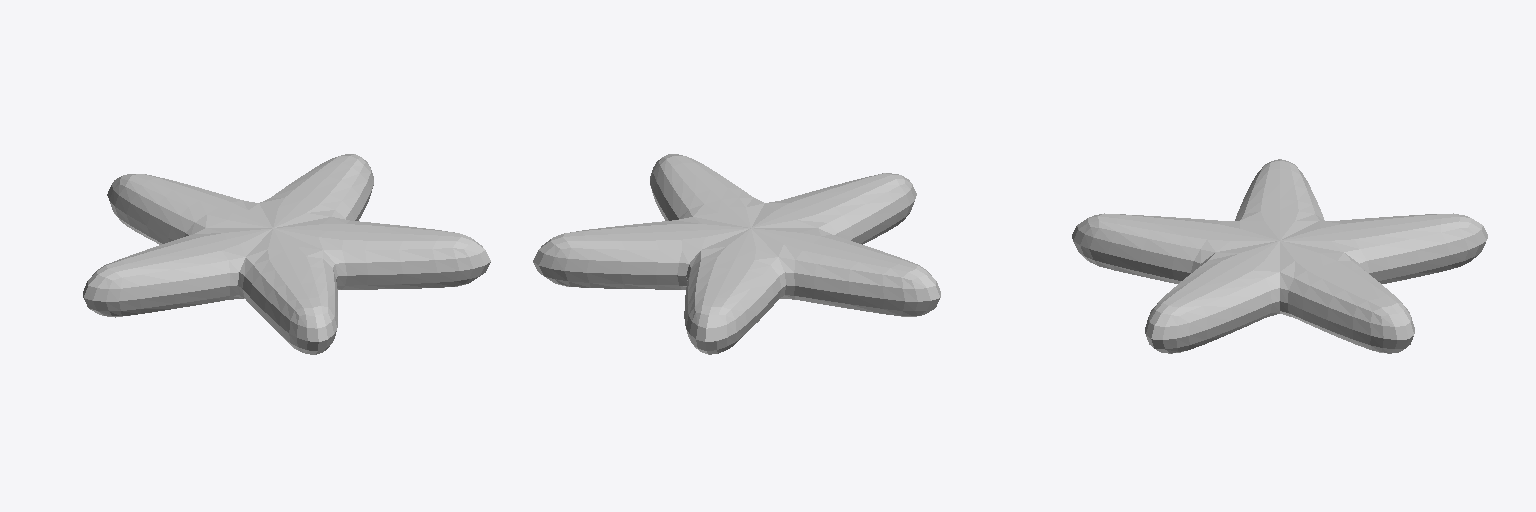
Rendered from Starfish_01_LOD0.obj.
The picture shows the model from 3 angles: view 1: azimuth 30°, elevation 25°; view 2: azimuth 150°, elevation 25°; view 3: azimuth 270°, elevation 25°; orthographic projection.
Parts seen in each view (by area): view 1: Starfish_01_LOD0_Star.006; view 2: Starfish_01_LOD0_Star.006; view 3: Starfish_01_LOD0_Star.006.
Part boxes in pixels (left/top/right/bottom): Starfish_01_LOD0_Star.006: left=83, top=154, right=490, bottom=354; Starfish_01_LOD0_Star.006: left=533, top=154, right=940, bottom=354; Starfish_01_LOD0_Star.006: left=1072, top=159, right=1487, bottom=353.
Size of the model in its own units: 4.89 by 0.64 by 5.11.